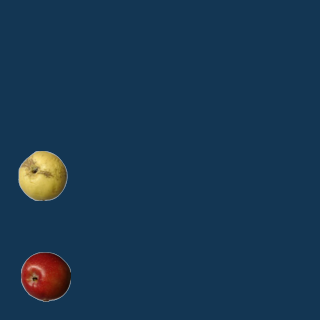Apple Braeburn: (20, 251, 70, 301)
Apple Golden 1: (17, 150, 67, 200)
